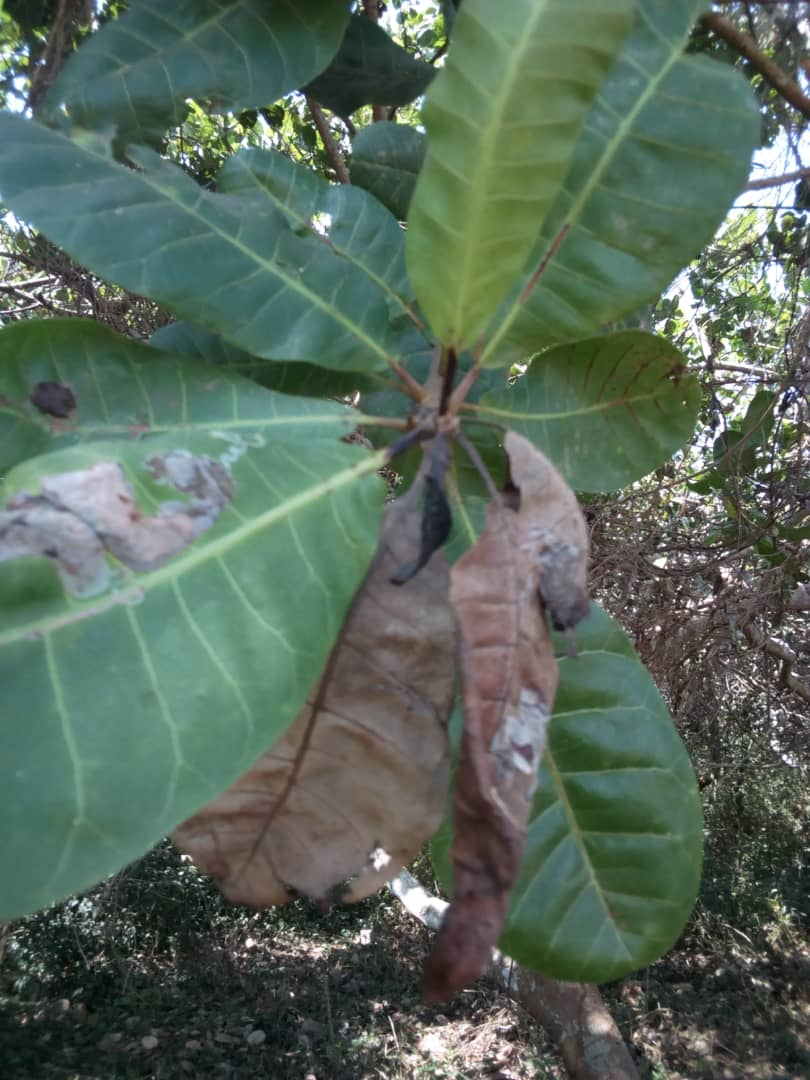Die-black: (388, 431, 467, 605)
